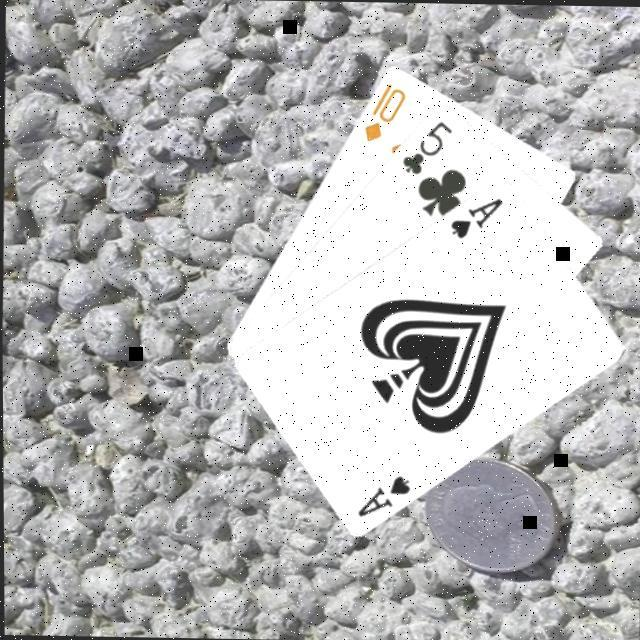10D: (358, 79, 407, 146)
5C: (397, 116, 454, 179)
AS: (351, 471, 412, 522), (445, 194, 504, 243)
